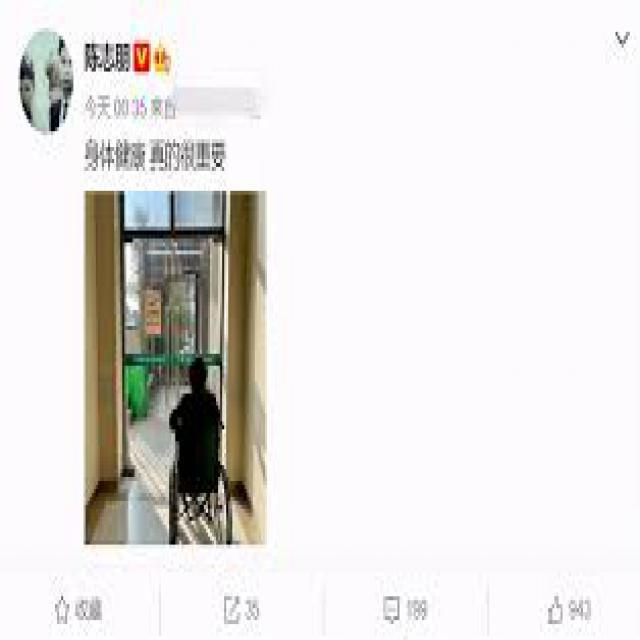wheelchairs: (161, 406, 251, 548)
